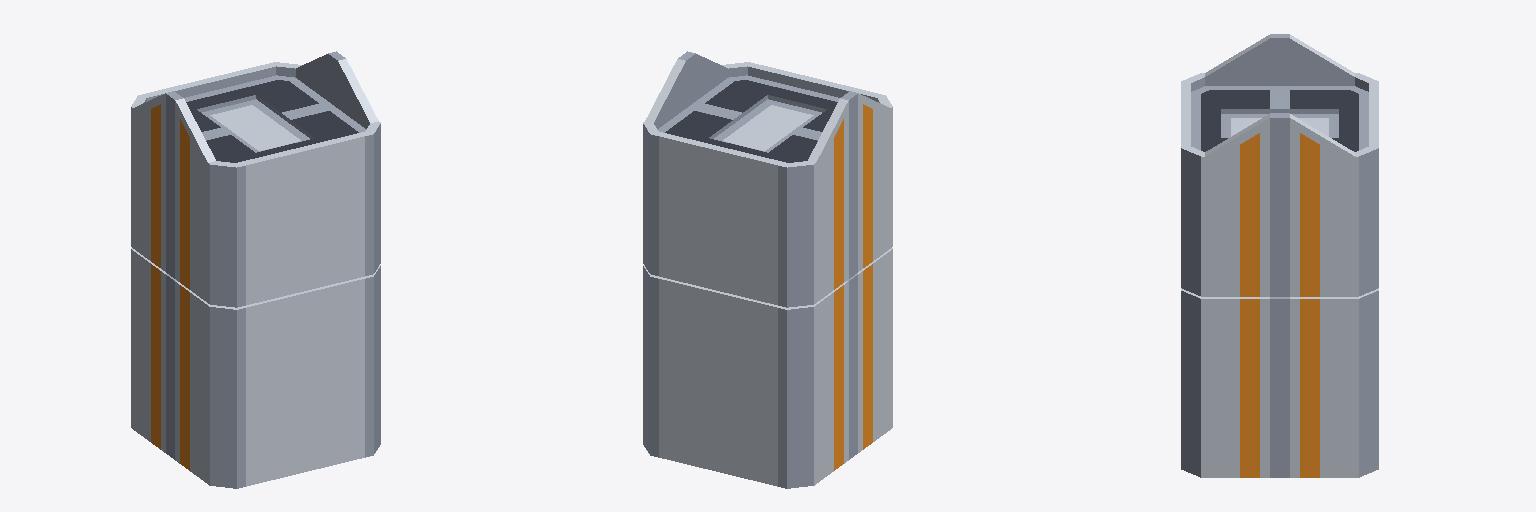
File: buildings_1.obj
3 views of the same model, side by side, from view 1: azimuth 30°, elevation 25°; view 2: azimuth 150°, elevation 25°; view 3: azimuth 270°, elevation 25° (orthographic).
Parts seen in each view (by area): view 1: hangar_smallA.001; view 2: hangar_smallA.001; view 3: hangar_smallA.001.
Boxes of the visible parts, <box> form: hangar_smallA.001: <box>131,51,380,488</box>; hangar_smallA.001: <box>643,51,892,488</box>; hangar_smallA.001: <box>1181,34,1378,477</box>.
Size of the model in its own units: 2 by 4.02 by 2.